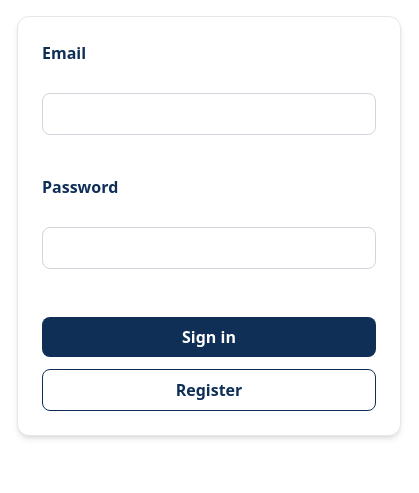
Test: LoginForm › shows error message when login fails
Type "wrong@example.com" into the field labelled "Email" at [209, 114], box [42,93,376,135]
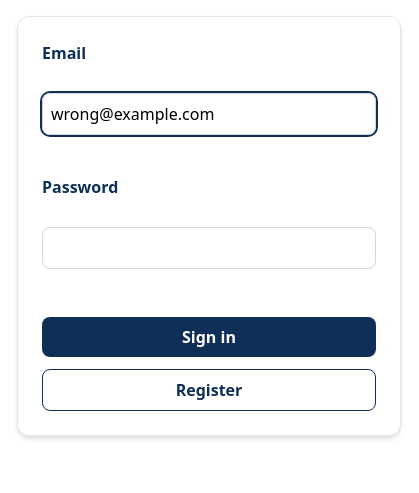
Type "wrongpassword" into the password field labelled "Password" at [209, 248], box [42,227,376,269]
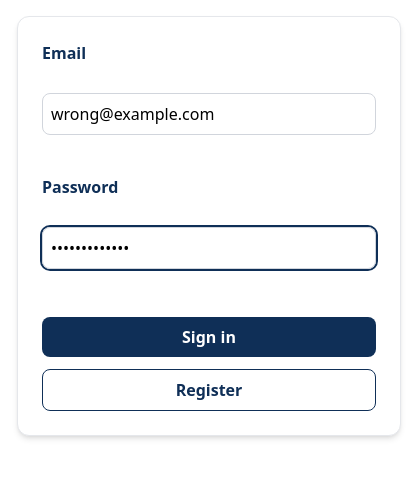
Click the button "Sign in" at [209, 337], box [42,317,376,357]
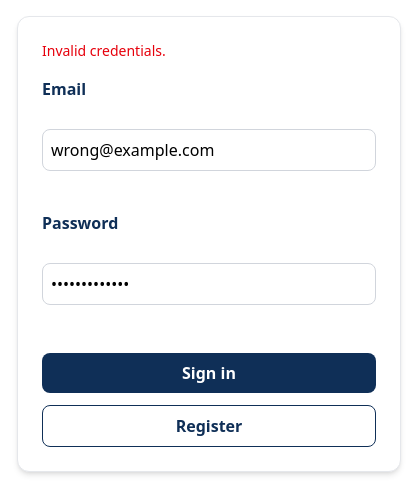
Expected: the text "Invalid credentials." is shown, [42,41,166,60]
